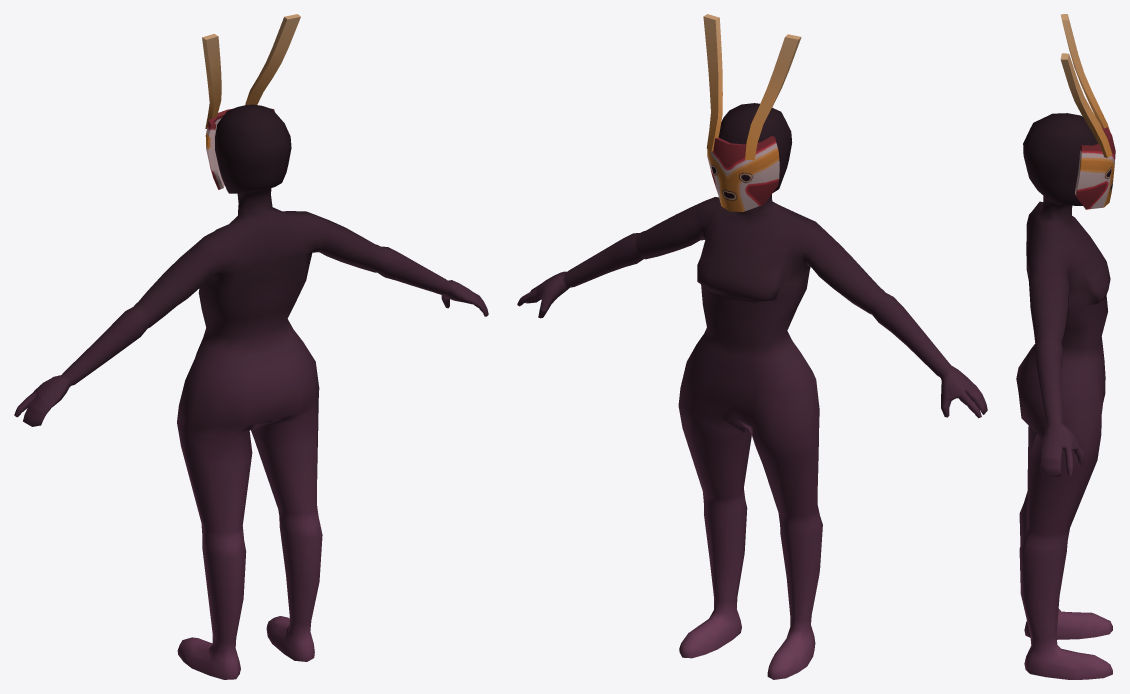
File: rig_char_59.fbx
3 renders of one model, left to right at view 1: azimuth 30°, elevation 25°; view 2: azimuth 150°, elevation 25°; view 3: azimuth 270°, elevation 25°, orthographic. The views are drawn at different scales.
Visible parts, largest first — view 1: mesh_char_112; view 2: mesh_char_112; view 3: mesh_char_112.
Part boxes in pixels (box(x1,y1,x2,y2)): mesh_char_112: box(14, 14, 488, 679); mesh_char_112: box(517, 14, 987, 679); mesh_char_112: box(1016, 14, 1115, 679).
Bounding box in the file's own units: 8.24 × 10.59 × 1.55.
1 material, 1 textured.
